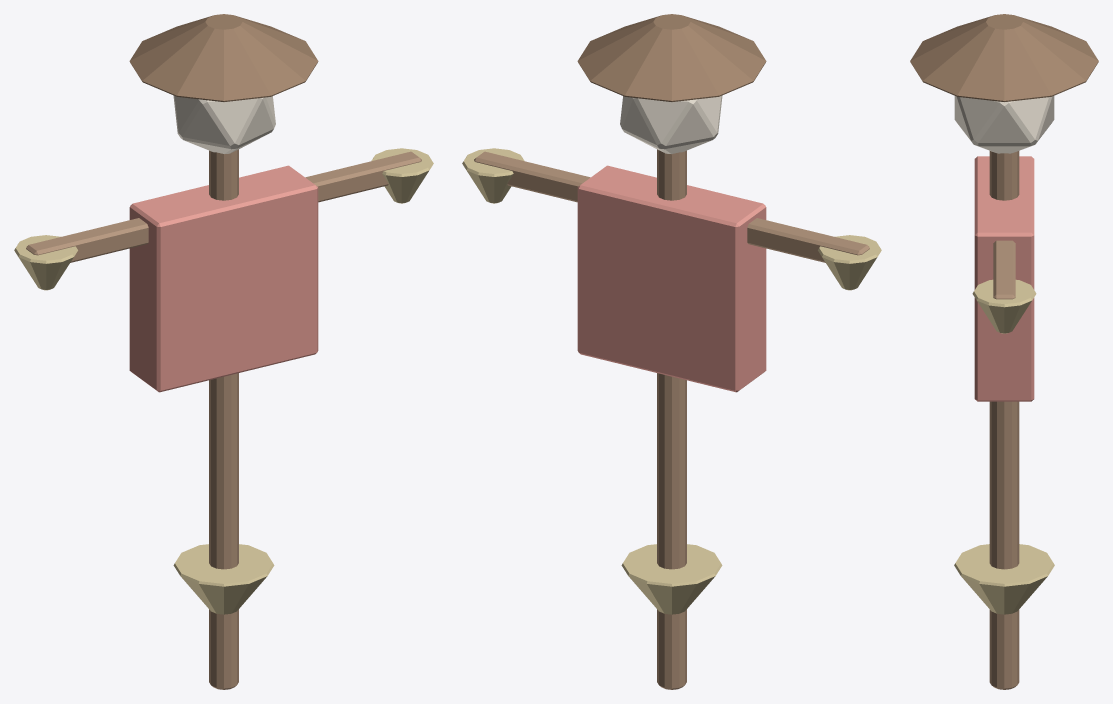
The model's file is SM_Scarecrow.fbx.
3 renders of one model, left to right at view 1: azimuth 30°, elevation 25°; view 2: azimuth 150°, elevation 25°; view 3: azimuth 270°, elevation 25°, orthographic.
Visible parts, largest first — view 1: Scarecrow; view 2: Scarecrow; view 3: Scarecrow.
Boxes of the visible parts, left/top/right/bottom form: Scarecrow: left=14, top=14, right=433, bottom=689; Scarecrow: left=462, top=14, right=881, bottom=689; Scarecrow: left=910, top=14, right=1098, bottom=689.
Bounding box in the file's own units: 127 × 196 × 50.57.
